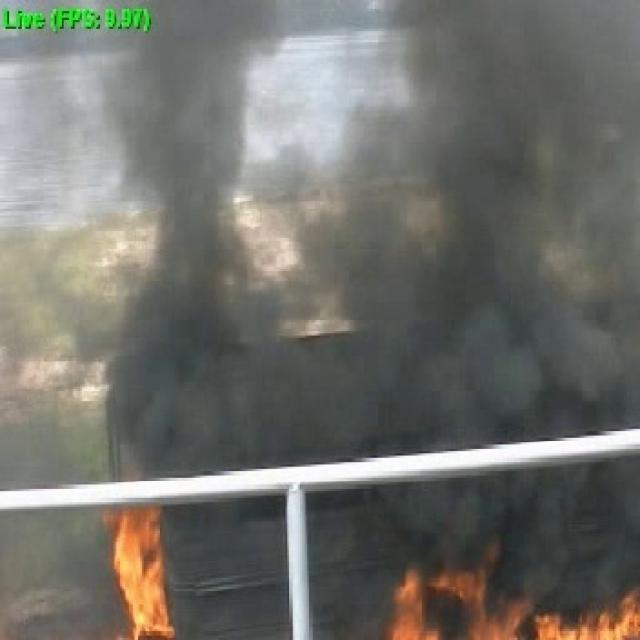Fire: (390, 583, 640, 640), (108, 504, 166, 636)
Smoke: (427, 6, 628, 414), (150, 16, 233, 493)
